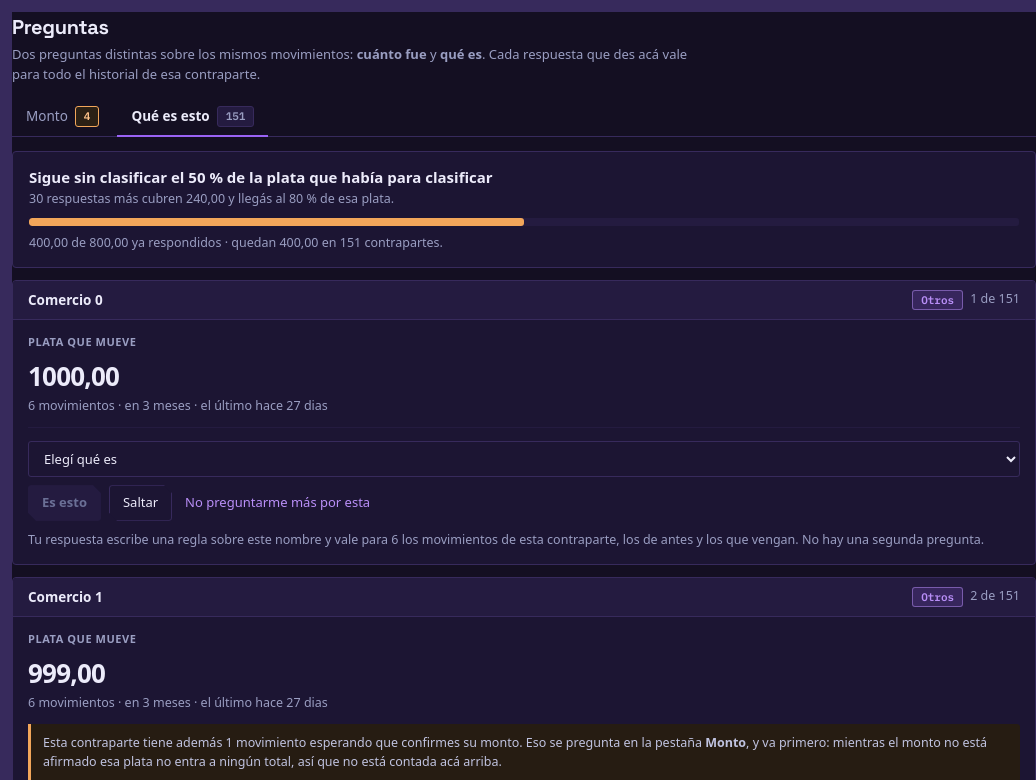
Test: pestaña 'Qué es esto' — 151 grupos por plata › Saltar manda la tarjeta al final y NO escribe nada
Click the button with test id "classify-saltar". click: (141,503)
box: x1=109 y1=485 x2=172 y2=521
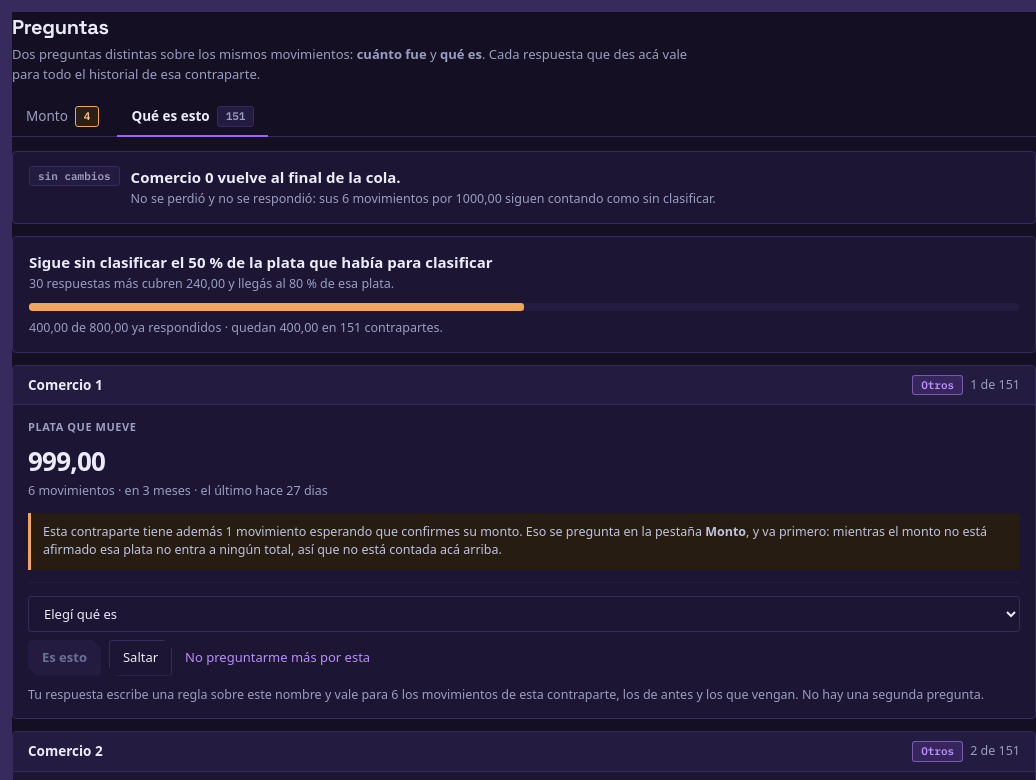
Expected: the text with test id "classify-contraparte" reads "Comercio 1", x1=28 y1=376 x2=103 y2=394
Now the element with test id "efecto" shows "vuelve al final de la cola", box x1=131 y1=166 x2=401 y2=186
